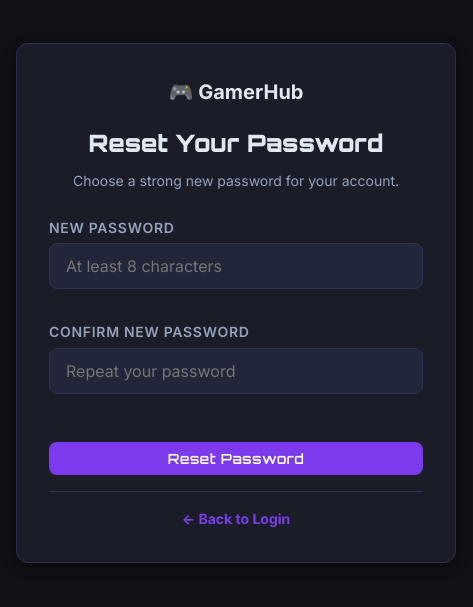
Scenario: ResetPasswordPage — validation › shows error when password is shorter than 8 characters
The width and height of the screenshot is (473, 607).
Type "short" into the password field labelled "New Password" at (236, 266), box [49,243,423,289]
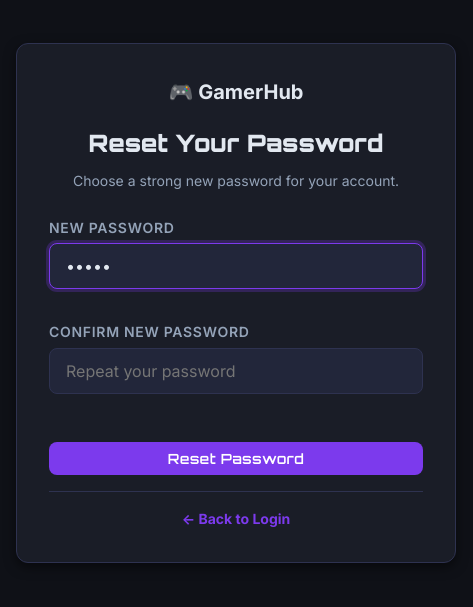
Click the button "Reset Password" at (236, 458), box [49,442,423,475]
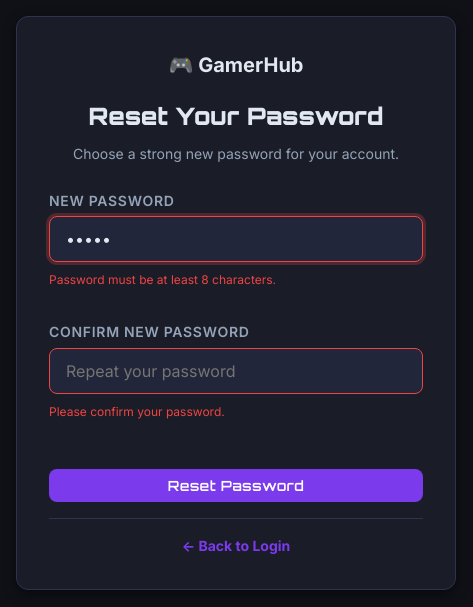
Result: the text "Password must be at least 8 characters." is shown at [49,272,276,287]
